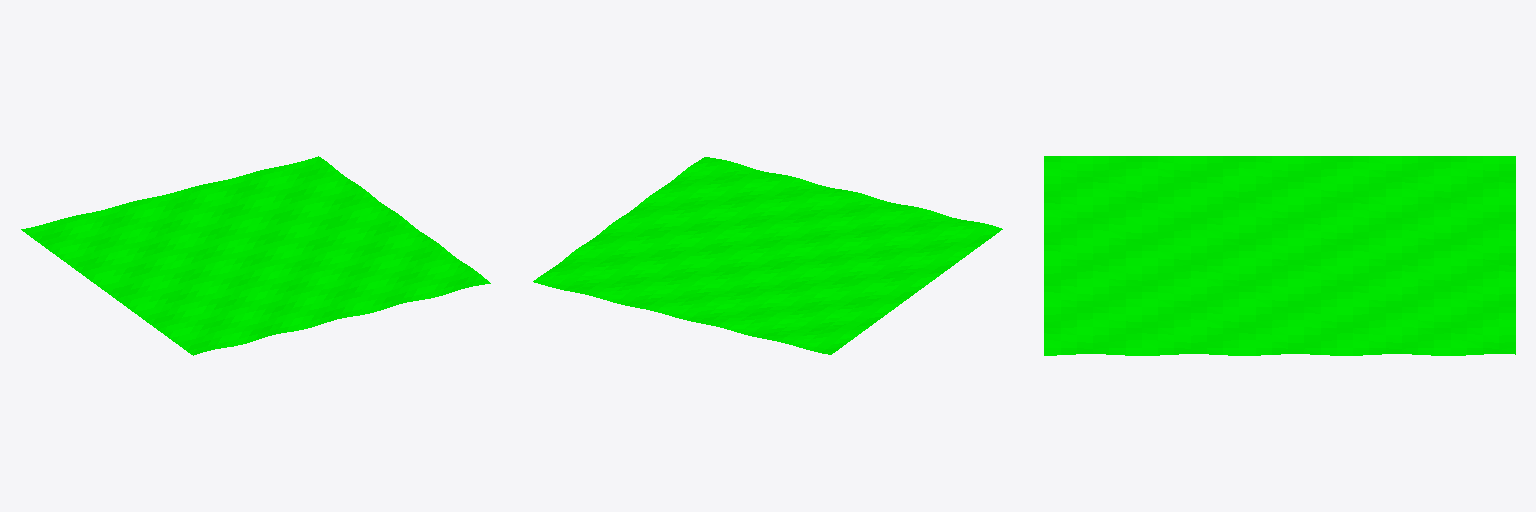
The robot description file, URDF, robot "terrain":
<?xml version="1.0" ?>
<robot name="terrain">
    <link name="terrainLink">
        <contact>
            <lateral_friction value="1"/>
        </contact>
        <inertial>
            <origin rpy="0 0 0" xyz="0 0 0"/>
            <mass value=".0"/>
            <inertia ixx="0" ixy="0" ixz="0" iyy="0" iyz="0" izz="0"/>
        </inertial>
        <visual>
            <origin rpy="0 0 0" xyz="0 0 0"/>
            <geometry>
                <mesh filename="terrain.obj" scale="1 1 1"/>
            </geometry>
            <material name="green">
                <color rgba="0.0 1.0 0.0 1.0"/>
            </material>
        </visual>
        <collision concave="yes">
            <origin rpy="0 0 0" xyz="0 0 0"/>
            <geometry>
                <mesh filename="terrain.obj" scale="1 1 1"/>
            </geometry>
        </collision>
    </link>
</robot>

--- Render facts (derived) ---
Views: 3 orthographic renders of the robot side by side, from view 1: azimuth 30°, elevation 25°; view 2: azimuth 150°, elevation 25°; view 3: azimuth 270°, elevation 25°.
Model terrain with 1 links and 0 joints (none), rooted at terrainLink, posed every joint at zero.
Links seen in each view (by area): view 1: terrainLink; view 2: terrainLink; view 3: terrainLink.
Boxes of the visible links, x1,y1,x2,y2 form: terrainLink: [21, 156, 490, 355]; terrainLink: [533, 157, 1002, 354]; terrainLink: [1044, 156, 1515, 355].
Bounding box of the posed robot: 29 × 29 × 0.2 m (x, y, z).
Meshes: 1 distinct files referenced, 1 mesh visuals loaded (1 OBJ).